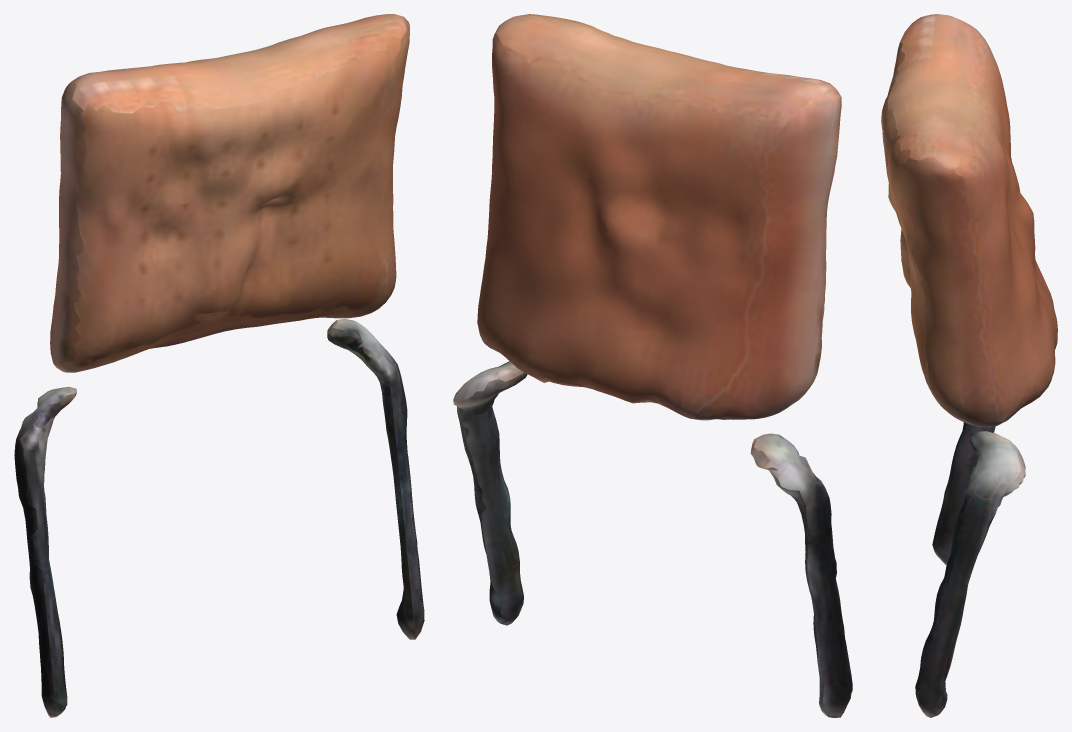
Rendered from 9_chair.glb.
3 views of the same model, side by side, from view 1: azimuth 30°, elevation 25°; view 2: azimuth 150°, elevation 25°; view 3: azimuth 270°, elevation 25° (orthographic). The views are drawn at different scales.
Parts seen in each view (by area): view 1: 9_chair; view 2: 9_chair; view 3: 9_chair.
Part boxes in pixels (left/top/right/bottom): 9_chair: left=14, top=14, right=424, bottom=717; 9_chair: left=453, top=14, right=852, bottom=717; 9_chair: left=881, top=14, right=1057, bottom=717.
Size of the model in its own units: 0.5053 by 0.8131 by 0.2304.
Materials: 1 (1 with a texture image).
